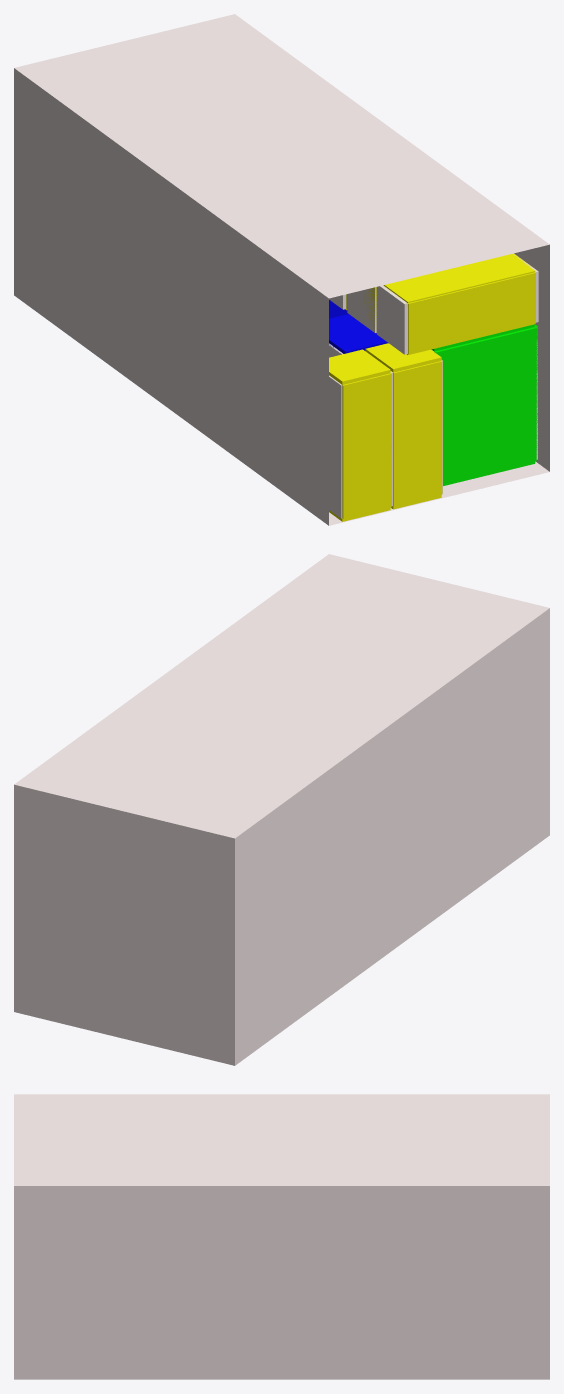
Rendered from dryrun13.fbx.
3 views of the same model, one above another, from view 1: azimuth 30°, elevation 25°; view 2: azimuth 150°, elevation 25°; view 3: azimuth 270°, elevation 25° (orthographic). The views are drawn at different scales.
Visible parts, largest first — view 1: bintop, BinIso20Bottom, binleft, front_3, front_18, front_19, front_12, top_12, binbottom, top_6, top_19, top_18; view 2: BinIso20Bottom, bintop, binback; view 3: BinIso20Bottom, binright, bintop.
Part boxes in pixels (x1,y1,x2,y2): bintop: (14, 14, 549, 298); BinIso20Bottom: (14, 74, 549, 525); binleft: (14, 68, 324, 515); front_3: (434, 327, 536, 483); front_18: (393, 361, 442, 506); front_19: (342, 373, 391, 518); front_12: (408, 272, 535, 354); top_12: (383, 254, 535, 303); binbottom: (329, 461, 549, 525); top_6: (329, 314, 388, 353); top_19: (329, 349, 390, 384); top_18: (365, 343, 441, 372); BinIso20Bottom: (235, 608, 549, 1065); bintop: (14, 554, 549, 838); binback: (14, 784, 234, 1065); BinIso20Bottom: (14, 1186, 549, 1379); binright: (14, 1192, 549, 1379); bintop: (14, 1094, 549, 1185).
Size of the model in its own units: 2390 by 2350 by 5900.
